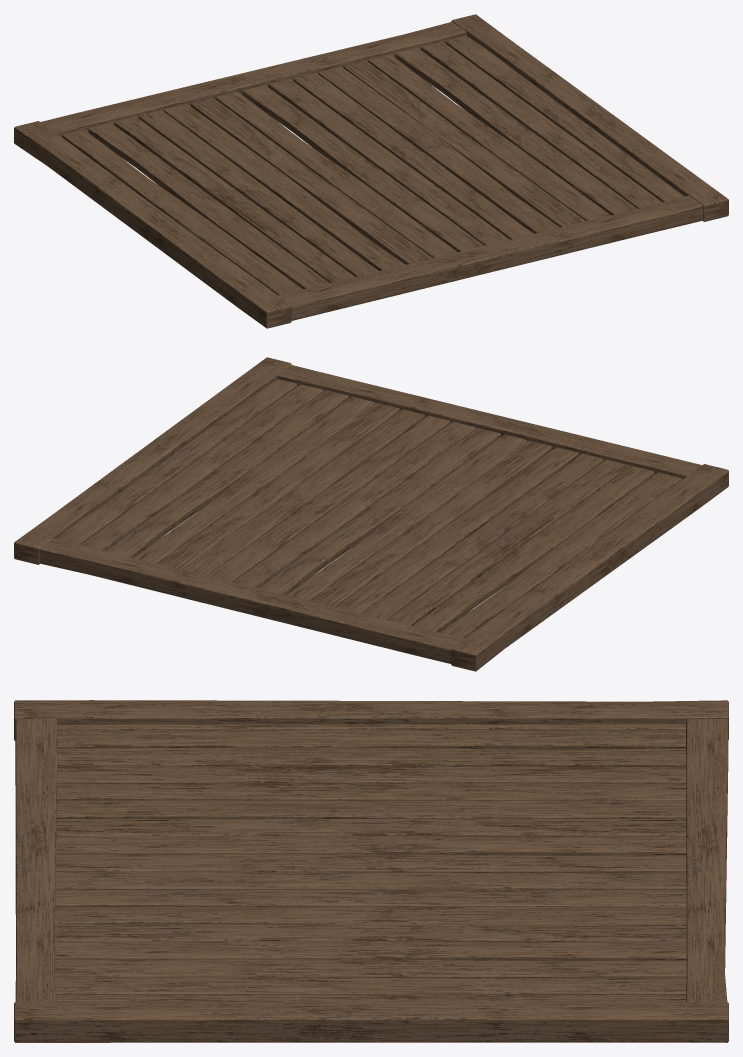
Rendered from SM_floor_module_wood_02.fbx.
3 views of the same model, one above another, from view 1: azimuth 30°, elevation 25°; view 2: azimuth 150°, elevation 25°; view 3: azimuth 270°, elevation 25° (orthographic). The views are drawn at different scales.
Visible parts, largest first — view 1: SM_floor_module_wood_02; view 2: SM_floor_module_wood_02; view 3: SM_floor_module_wood_02.
Part boxes in pixels (x1=…): SM_floor_module_wood_02: x1=14, y1=14, x2=728, y2=328; SM_floor_module_wood_02: x1=14, y1=357, x2=728, y2=671; SM_floor_module_wood_02: x1=14, y1=700, x2=728, y2=1042.
Bounding box in the file's own units: 320 × 303 × 11.46.
1 material, 1 textured.
